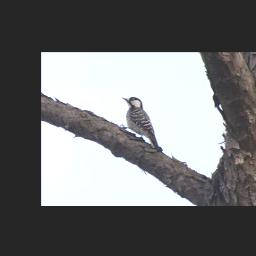Woodpecker: (117, 93, 166, 155)
